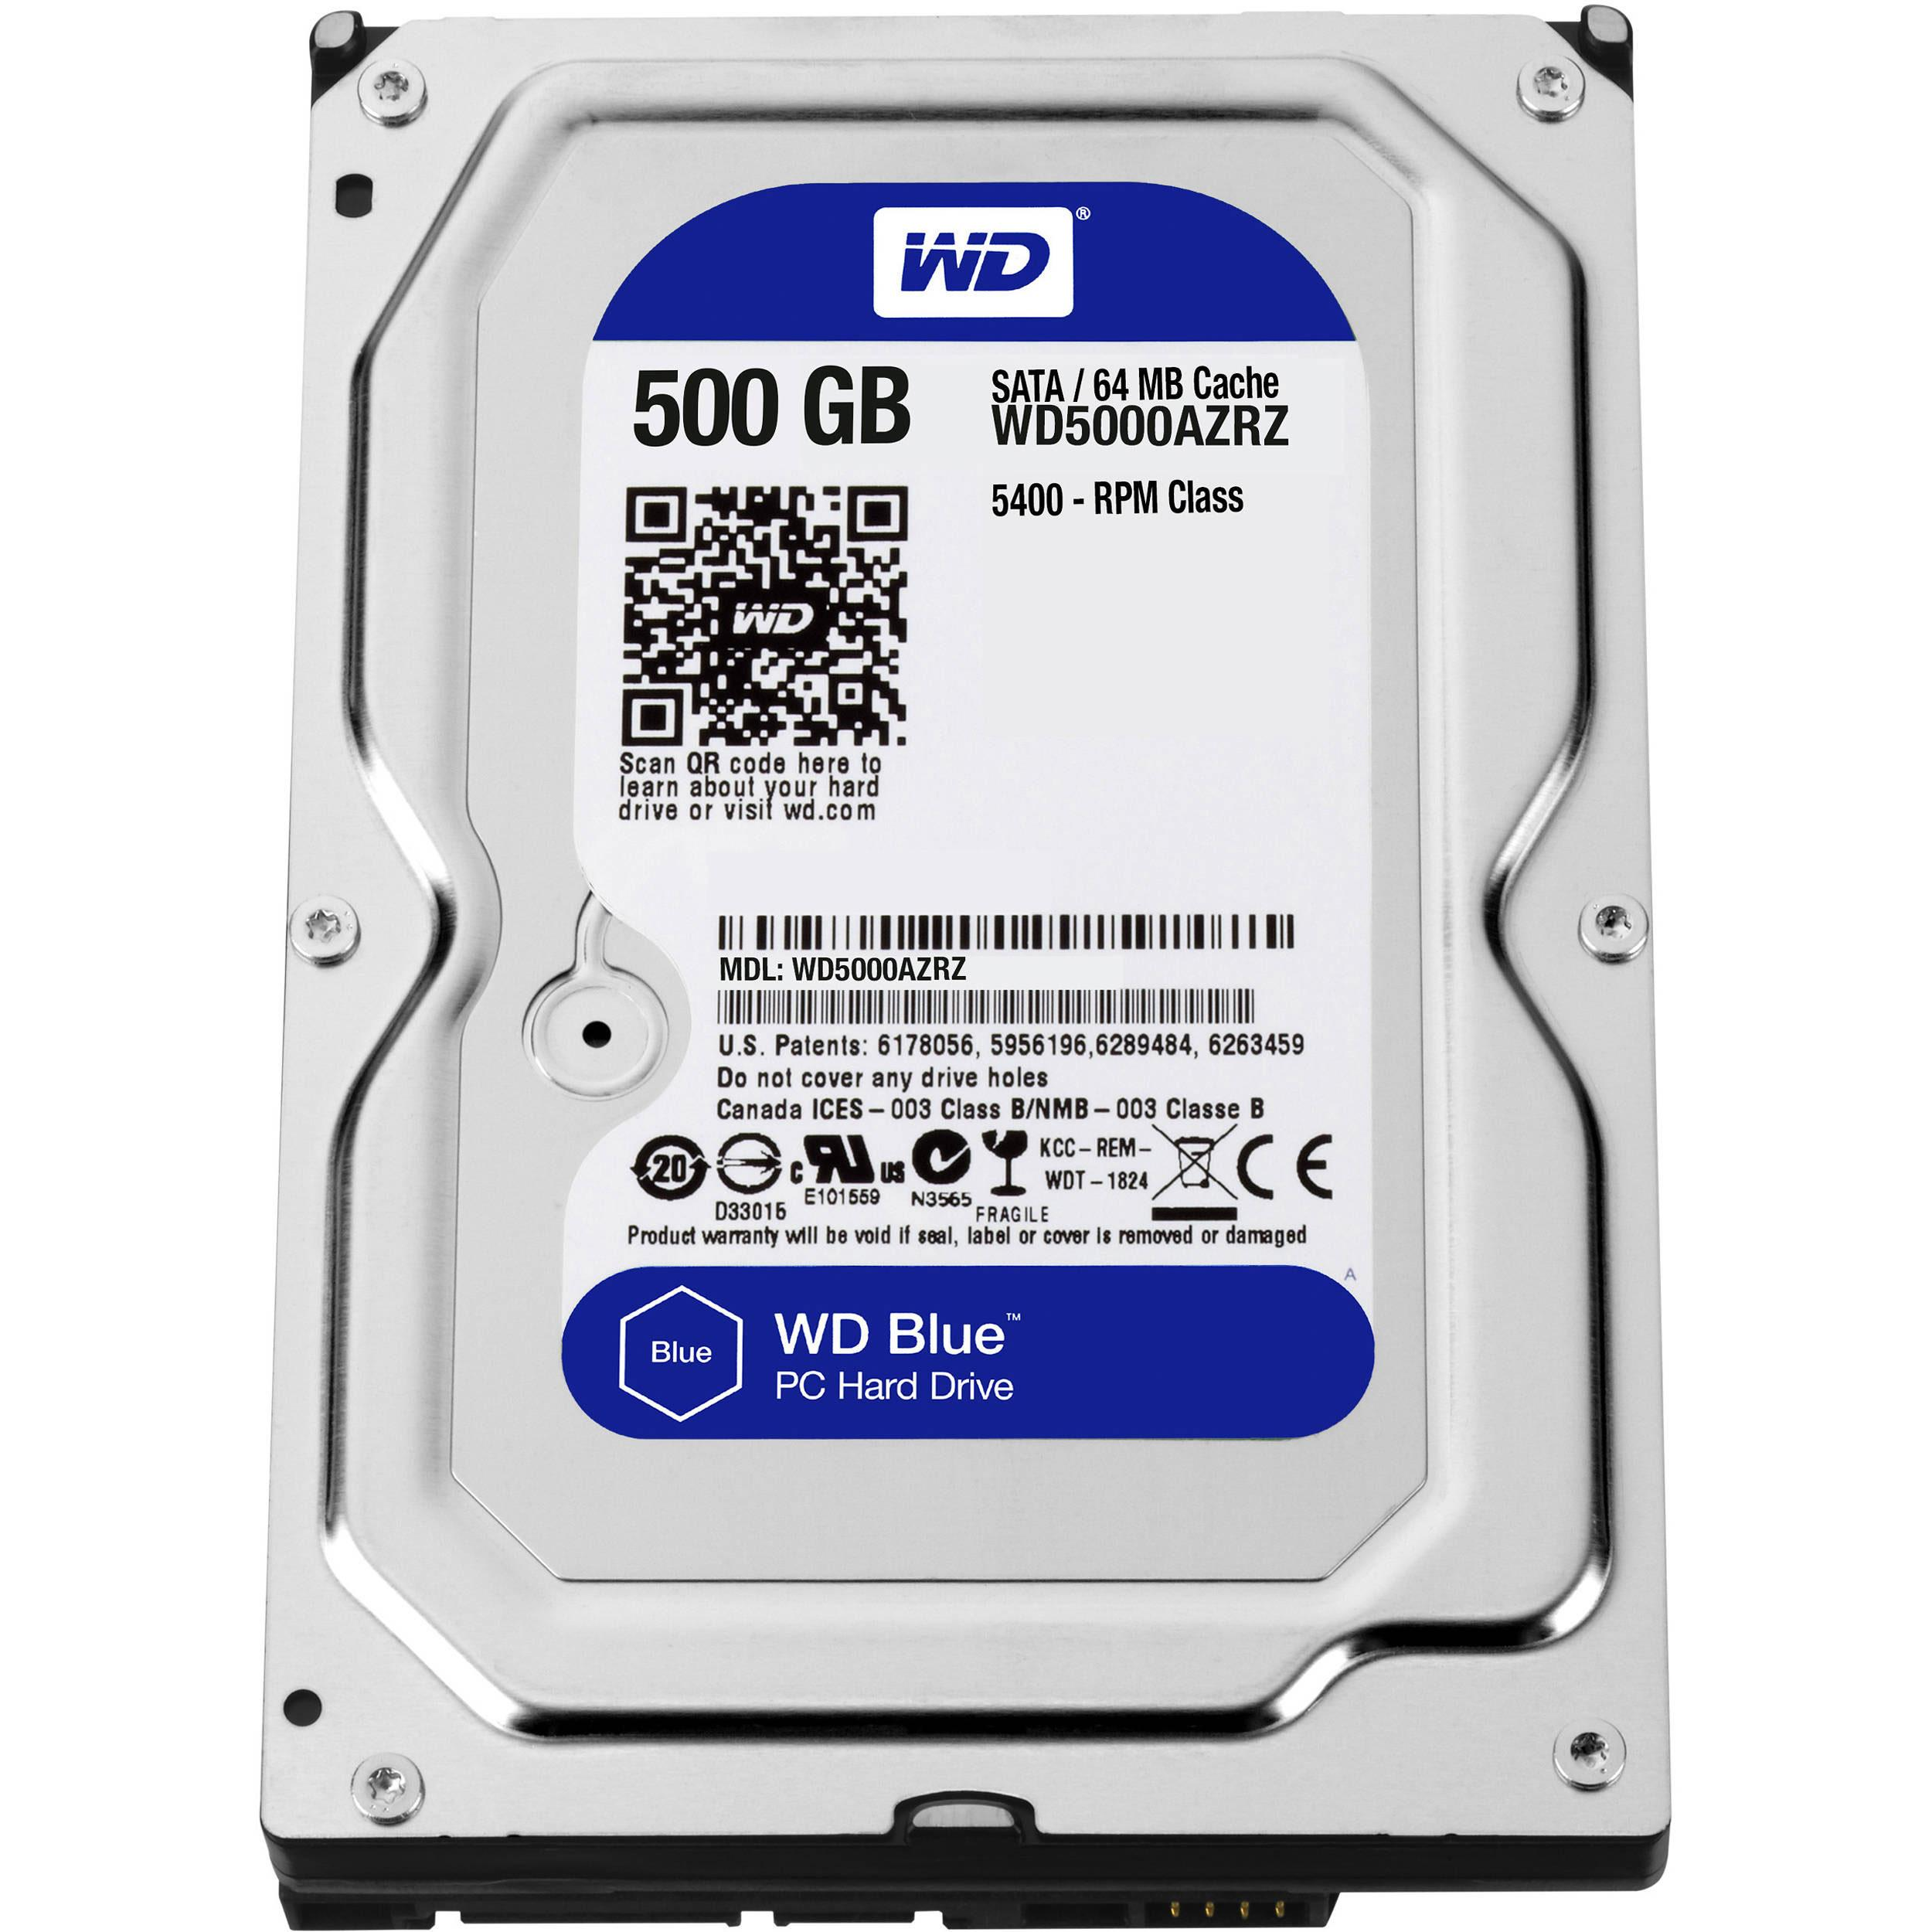internal HDD: (253, 0, 1681, 1932)
